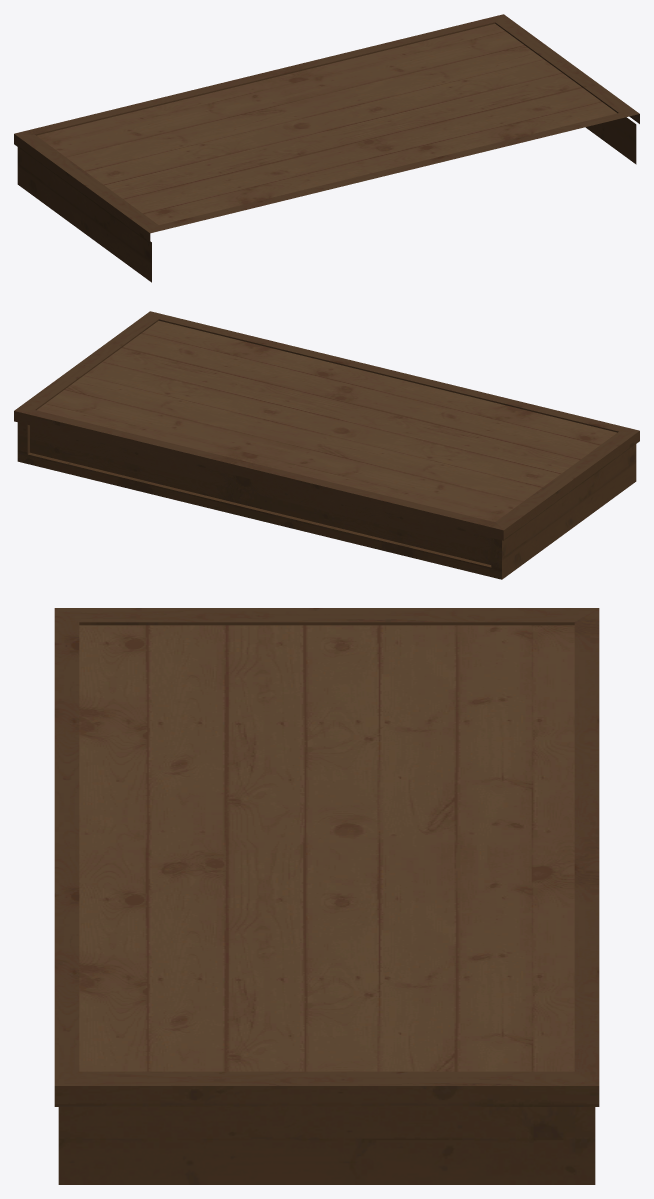
File: Podium.fbx
The picture shows the model from 3 angles, top to bottom: view 1: azimuth 30°, elevation 25°; view 2: azimuth 150°, elevation 25°; view 3: azimuth 270°, elevation 25°; orthographic projection. The views are drawn at different scales.
Parts seen in each view (by area): view 1: Podium; view 2: Podium; view 3: Podium.
Part boxes in pixels (x1,y1,x2,y2): Podium: [14, 14, 639, 282]; Podium: [14, 311, 639, 579]; Podium: [54, 608, 599, 1184].
Size of the model in its own units: 10.1 by 1 by 4.86.
Materials: 1 (1 with a texture image).
